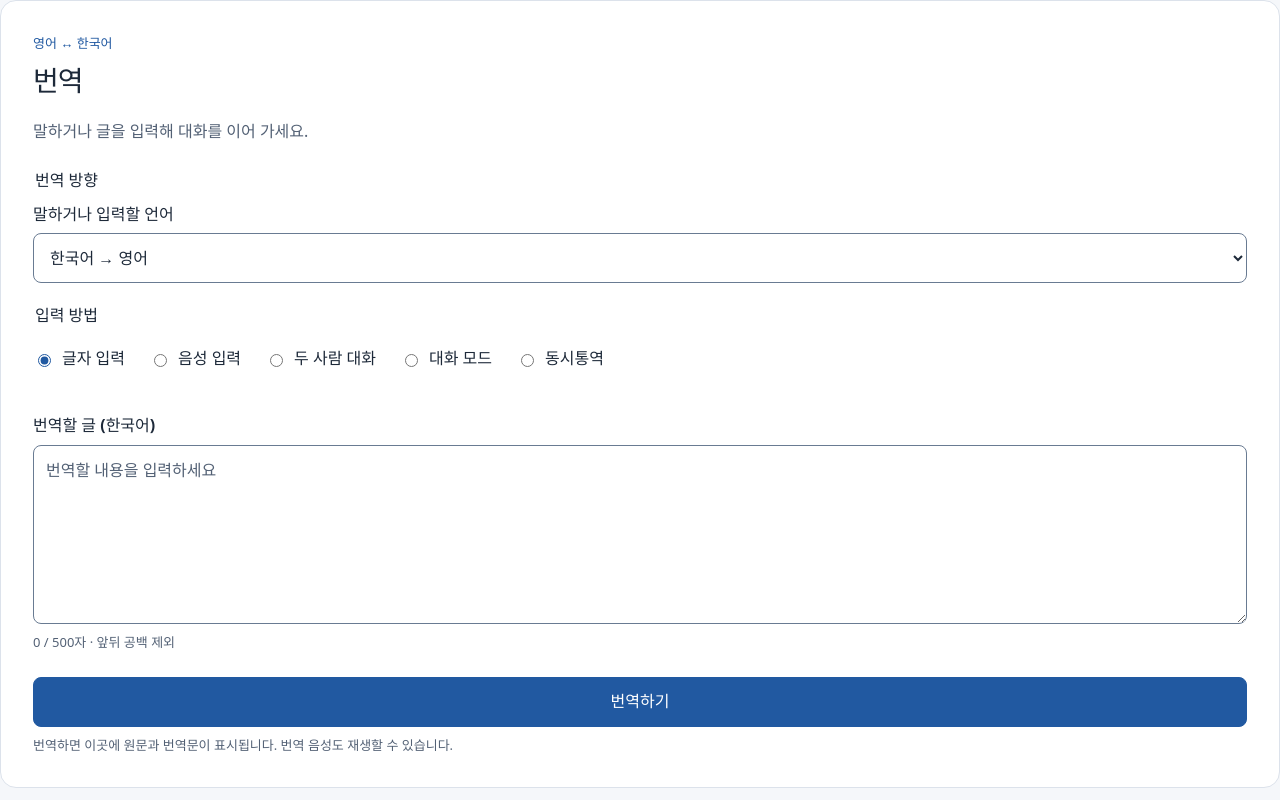
Test case: uses only the contract status/detail pair for 422 / Audio could not be decoded
Type "안녕하세요" into the text box labelled "번역할 글 (한국어)" at (640, 534), box 33,445 -> 1247,624
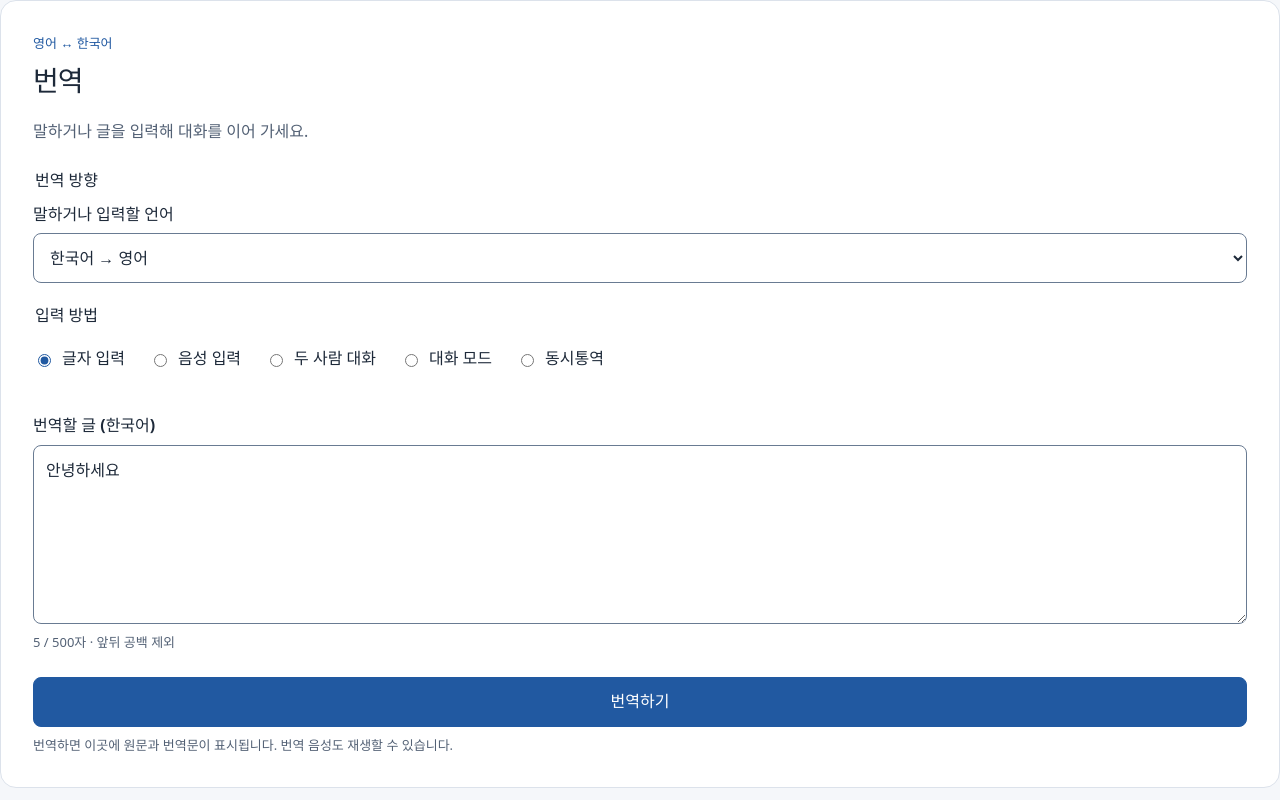
Click the button "번역하기" at (640, 702), box 33,677 -> 1247,726
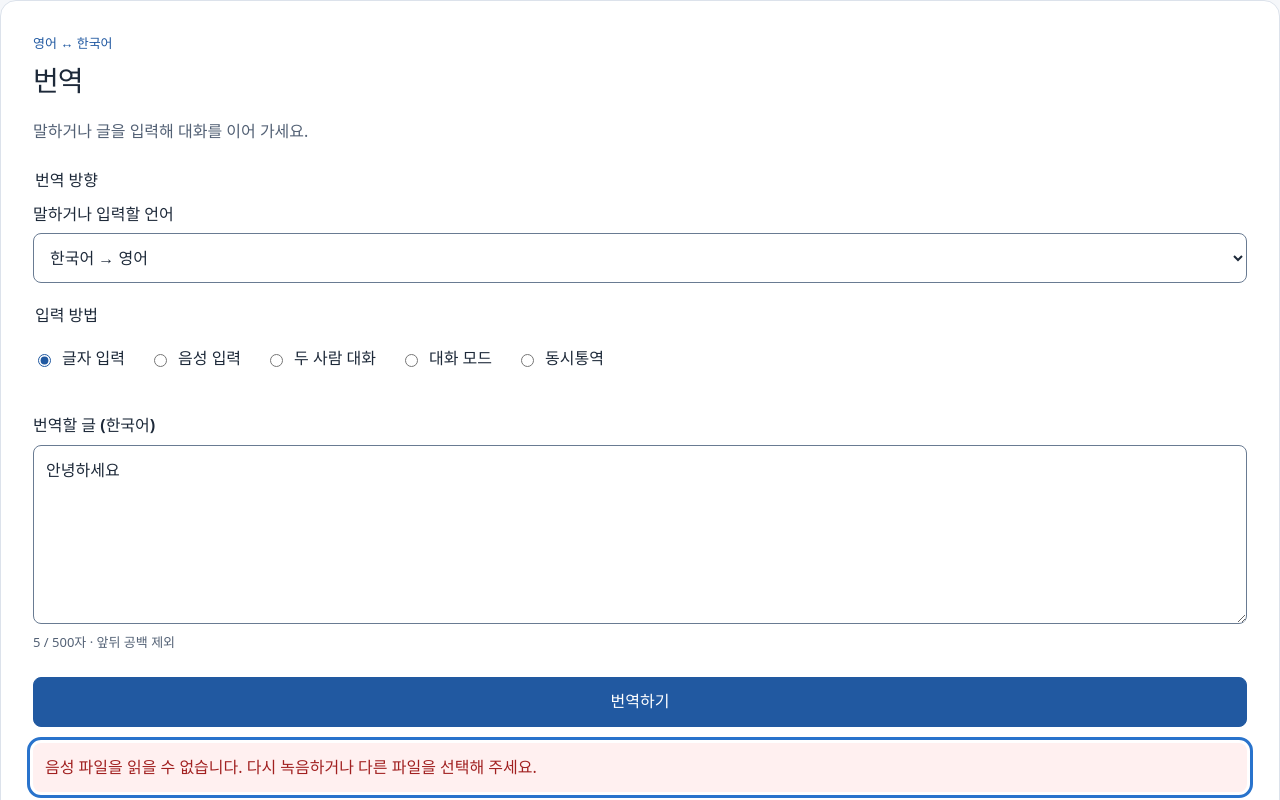
Now the message shows "파일을 읽을 수 없습니다", box 45,756 -> 537,778
